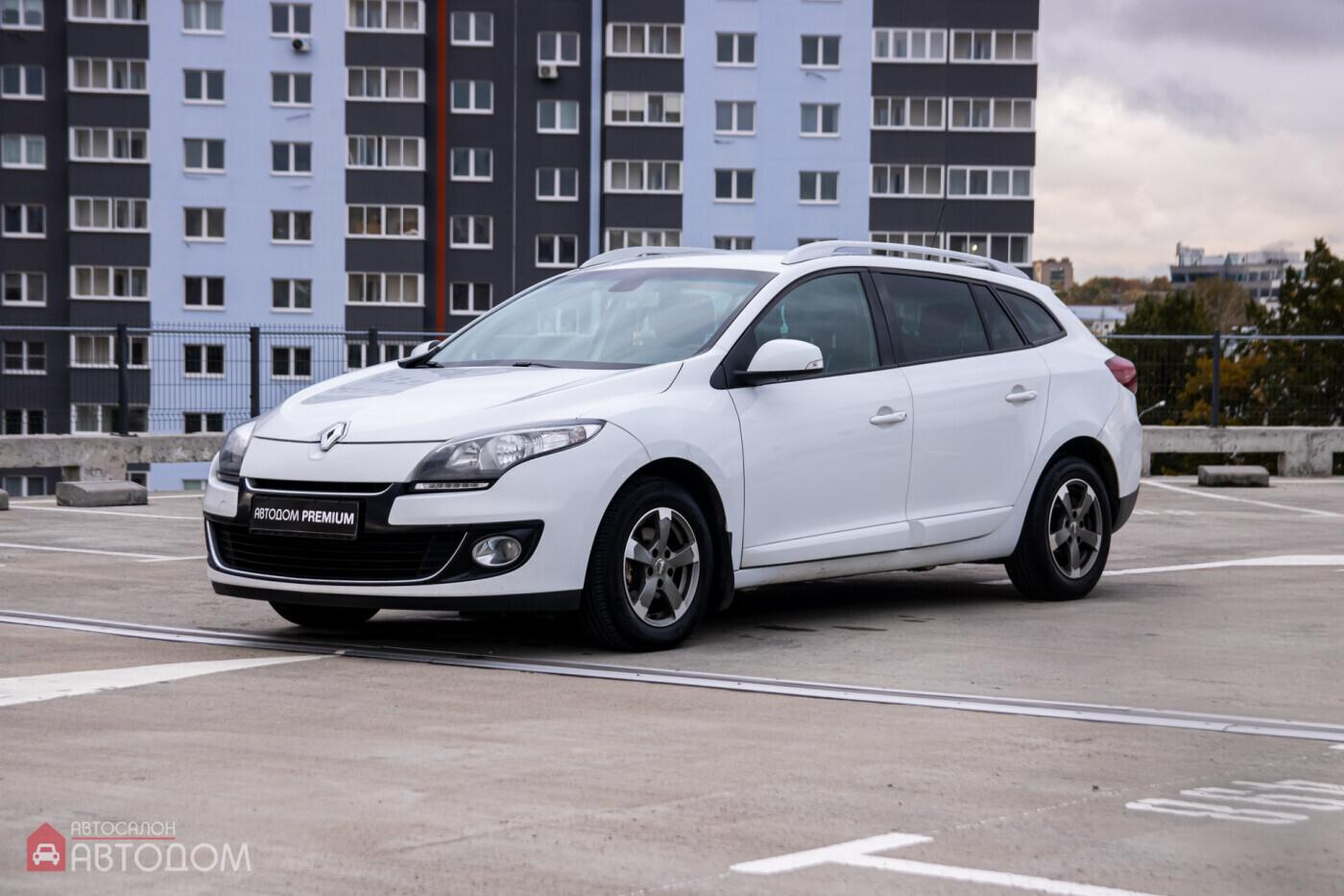Megane_2012-2014: (193, 239, 1169, 661)
